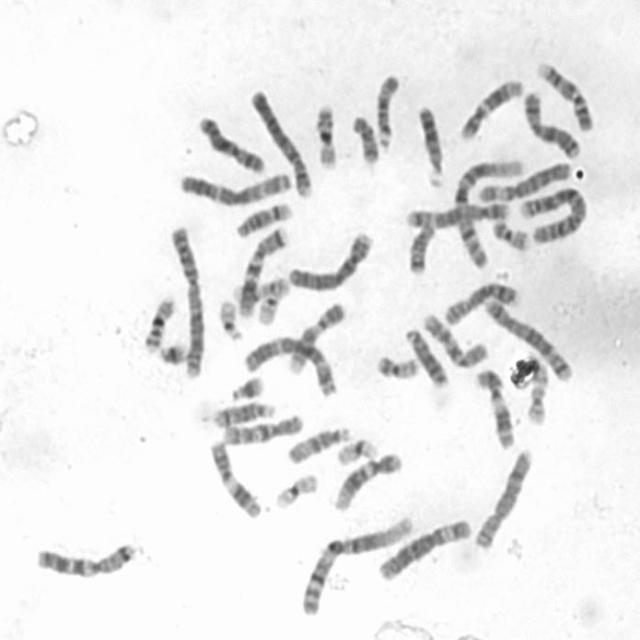A1: (296, 508, 418, 617), (449, 150, 527, 270)
A2: (166, 217, 208, 380), (515, 179, 591, 245)
A3: (239, 329, 341, 398), (175, 164, 296, 208)
B4: (246, 81, 317, 199), (284, 223, 376, 292)
B5: (480, 292, 576, 384), (400, 194, 514, 230)
C10: (418, 305, 492, 369), (217, 407, 307, 448)
C11: (205, 432, 266, 520), (470, 362, 518, 451)
C12: (455, 70, 528, 142), (329, 444, 405, 512)
C6: (373, 510, 475, 583), (474, 155, 574, 203)
C7: (234, 219, 292, 317), (30, 533, 140, 579)
C8: (469, 441, 537, 551), (439, 274, 523, 327)
C9: (282, 294, 348, 376), (532, 53, 596, 132)
D13: (401, 321, 452, 388), (412, 96, 448, 188)
D14: (231, 194, 297, 239), (208, 394, 277, 429)
D15: (282, 418, 354, 465), (371, 66, 403, 151)
E16: (139, 288, 179, 353), (310, 95, 341, 171)
E17: (231, 268, 293, 311), (523, 355, 552, 426)
E18: (404, 214, 439, 276), (347, 107, 382, 165)
F19: (271, 466, 321, 510), (332, 431, 380, 466)
F20: (488, 212, 532, 252), (372, 347, 423, 380)
G21: (227, 368, 267, 402), (154, 334, 190, 367)
G22: (214, 291, 246, 342), (254, 282, 286, 327)
X: (193, 108, 269, 175), (519, 83, 584, 159)
